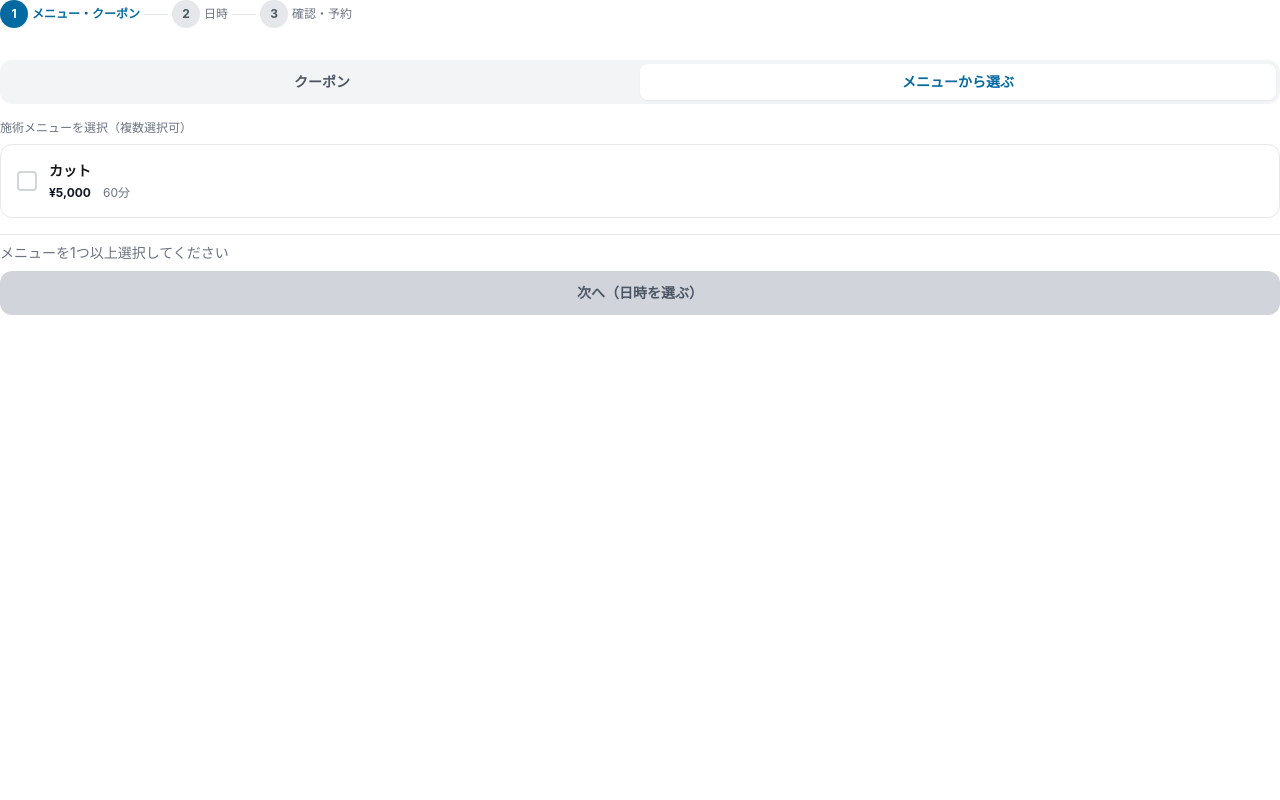
Test: defect4: キャンセルポリシー表示（確認ステップ） › cancelPolicy 設定済みの施設では数値ベースの説明文＋補足テキストが表示される
The width and height of the screenshot is (1280, 800).
Click the text "カット": (70, 171) [49,161,91,181]
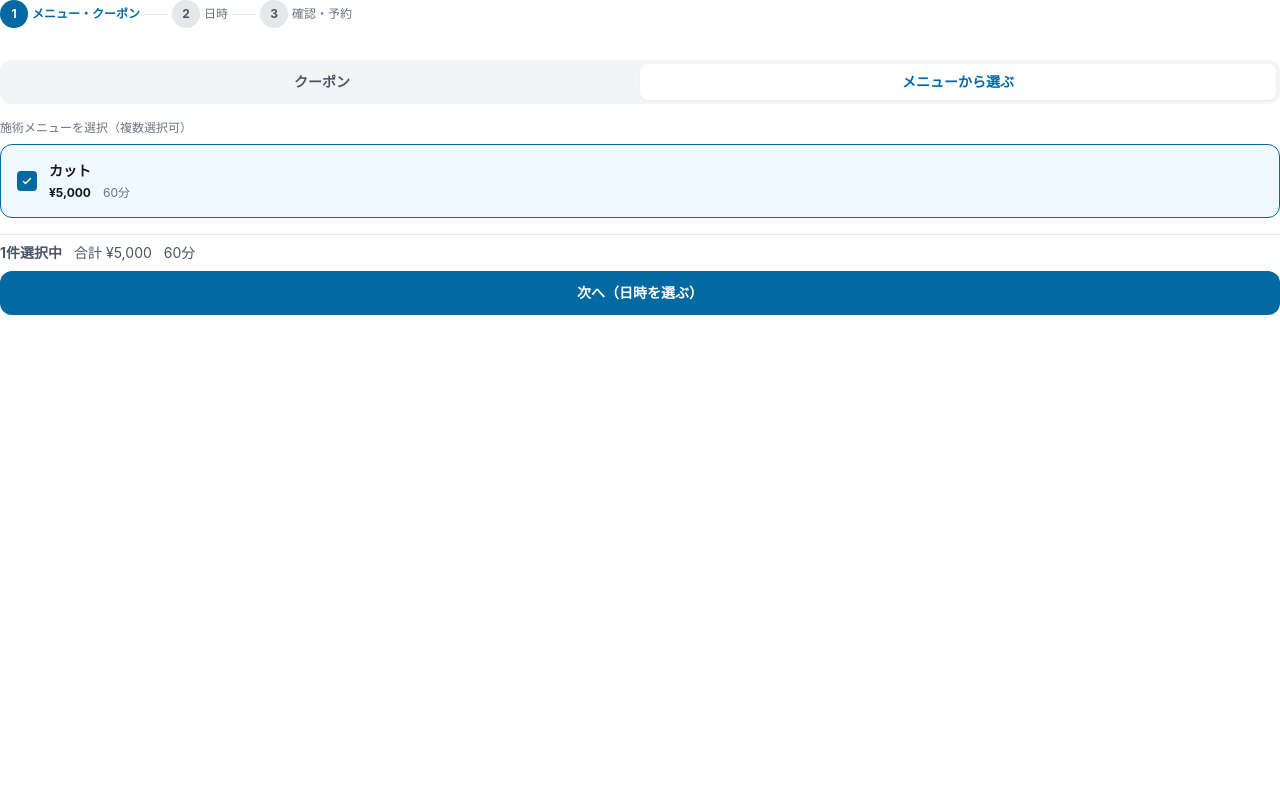
Click the button "次へ（日時を選ぶ）": (640, 293) [0,271,1279,315]
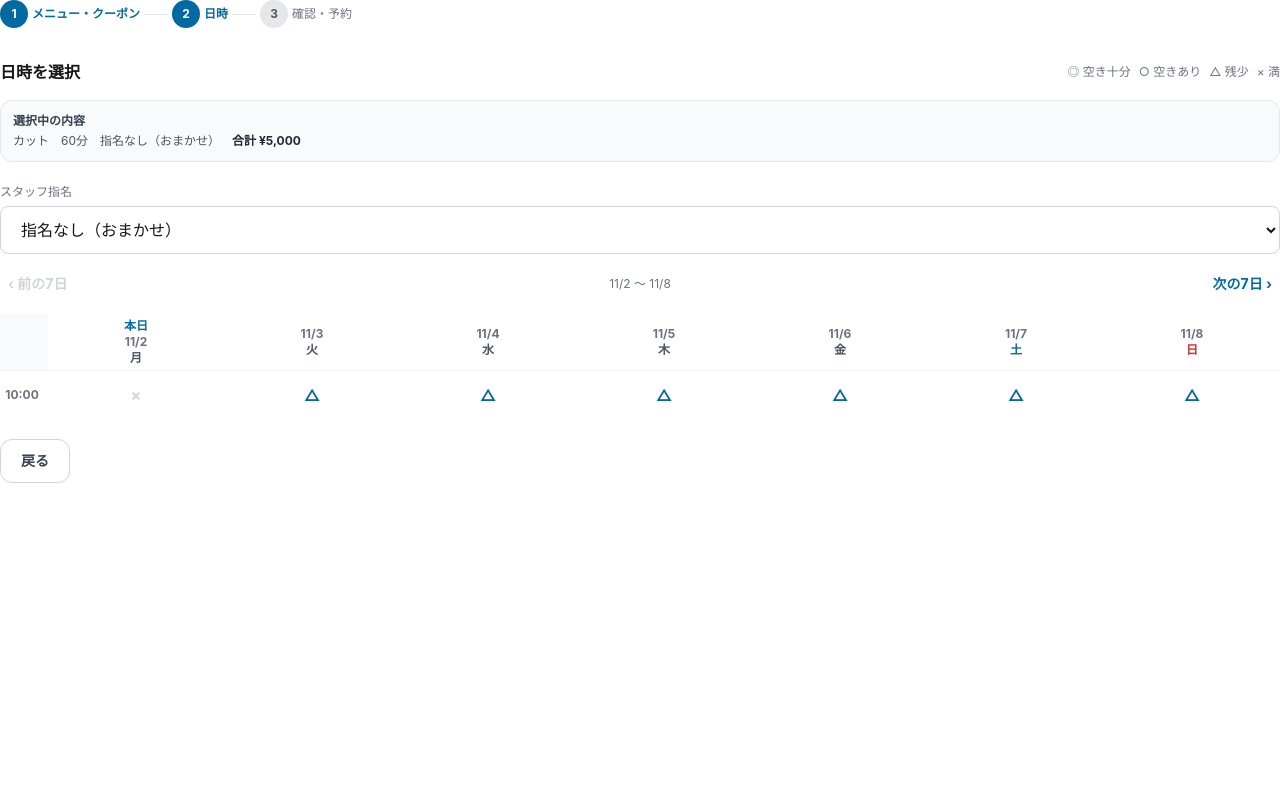
Click the 1st button "△": (312, 395) [226,373,398,417]
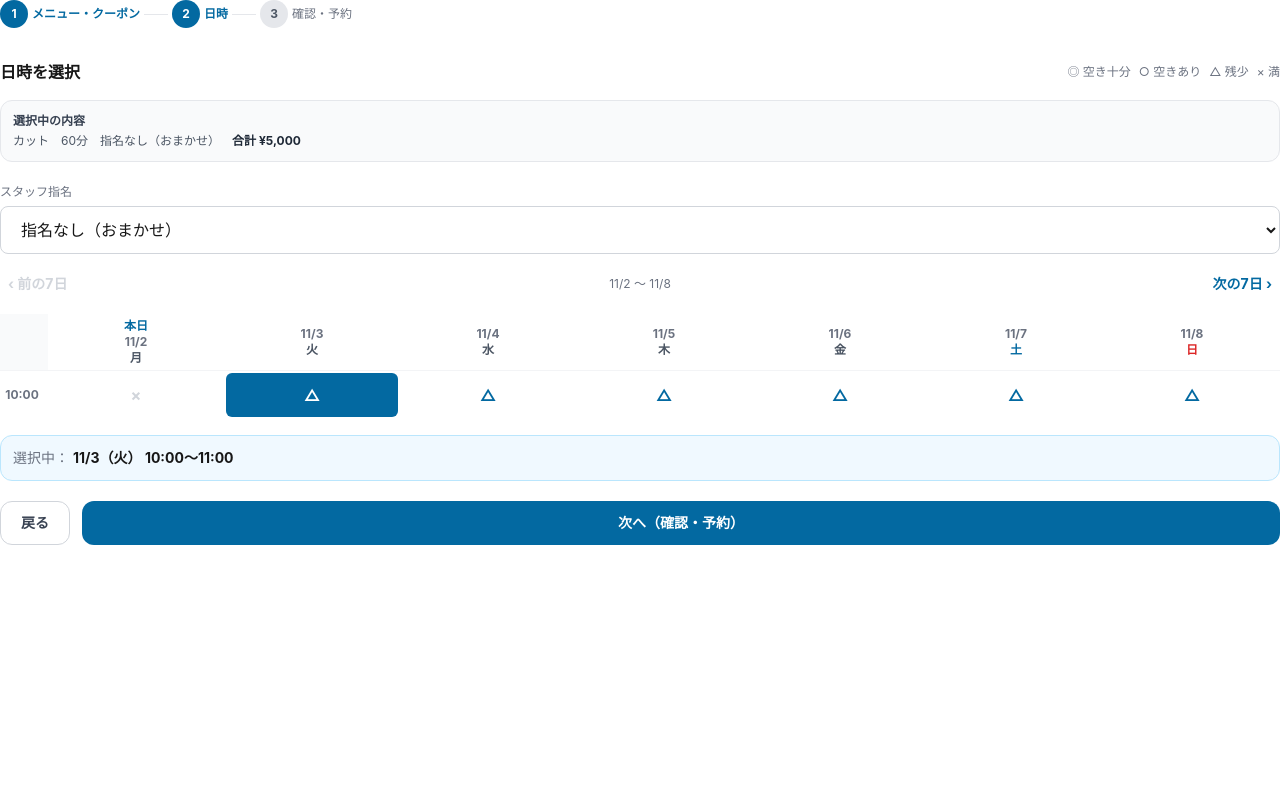
Click the button "次へ（確認・予約）": (681, 523) [82,501,1279,545]
(page scrolled)
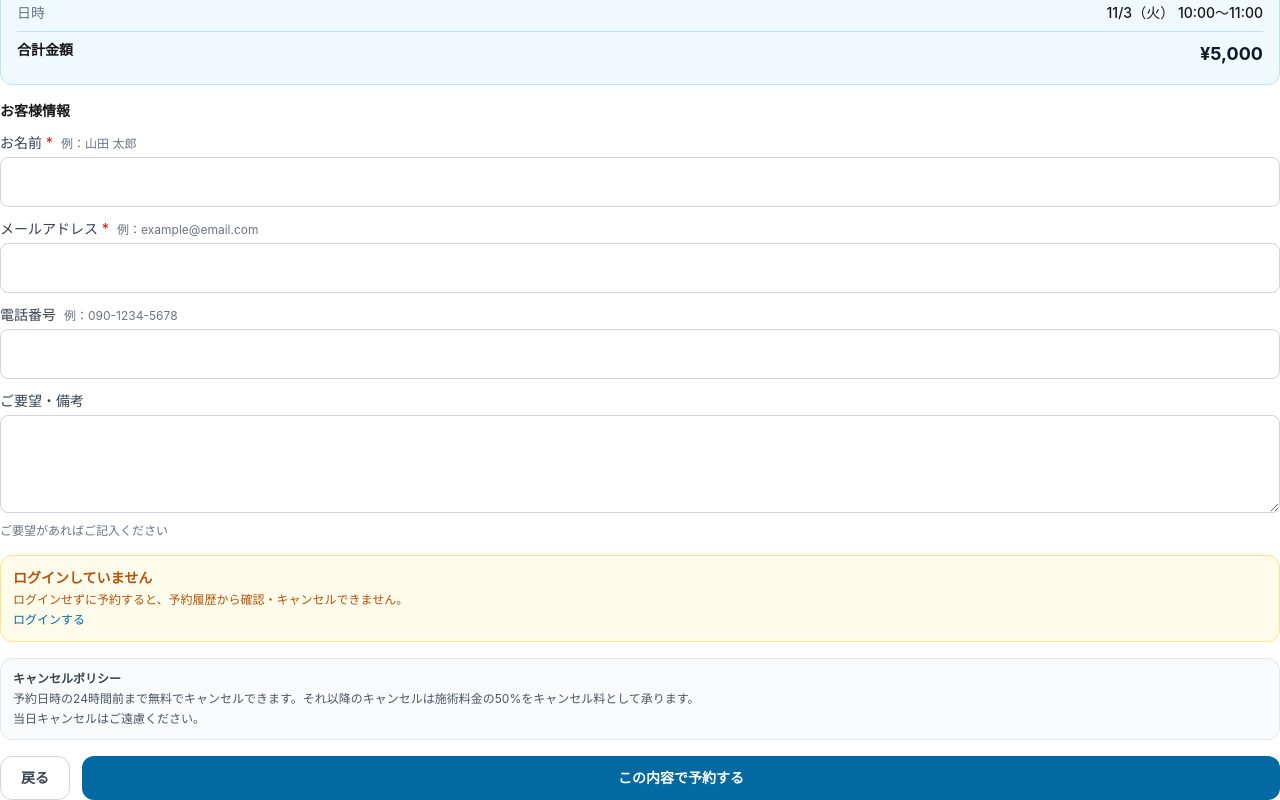
Expected: the text "キャンセルポリシー" is shown, [13,671,121,686]
Expected: the text "予約日時の24時間前まで無料でキャンセルできます。それ以降のキャンセルは施術料金の50%をキャンセル料として承ります。" is shown, [13,691,700,706]
Expected: the text "当日キャンセルはご遠慮ください。" is shown, [13,711,205,726]
